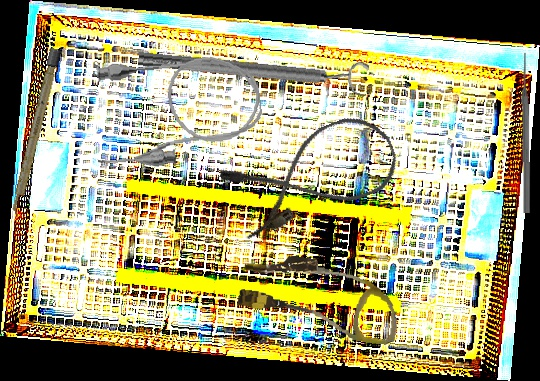Cannula: (217, 106, 406, 242), (86, 46, 267, 174), (234, 249, 405, 346)
Fixation Ring: (136, 38, 370, 100)
Pusher: (519, 52, 533, 214)
Scalpel Handle: (8, 47, 62, 218)
